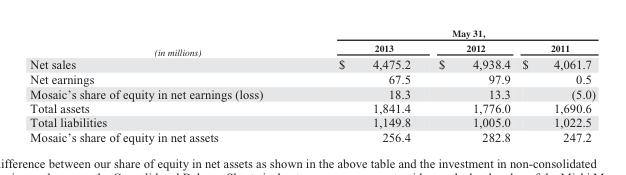table: (29, 29, 594, 144)
table column: (29, 29, 300, 144), (300, 29, 423, 144), (423, 29, 515, 144), (515, 29, 594, 144)
table column header: (29, 29, 594, 57)
table row: (29, 41, 594, 57), (29, 71, 594, 86), (29, 100, 594, 115), (29, 129, 594, 144), (29, 57, 594, 71), (29, 86, 594, 100), (29, 115, 594, 129), (29, 29, 594, 41)
table spanning cell: (29, 29, 300, 57), (300, 29, 594, 41)
